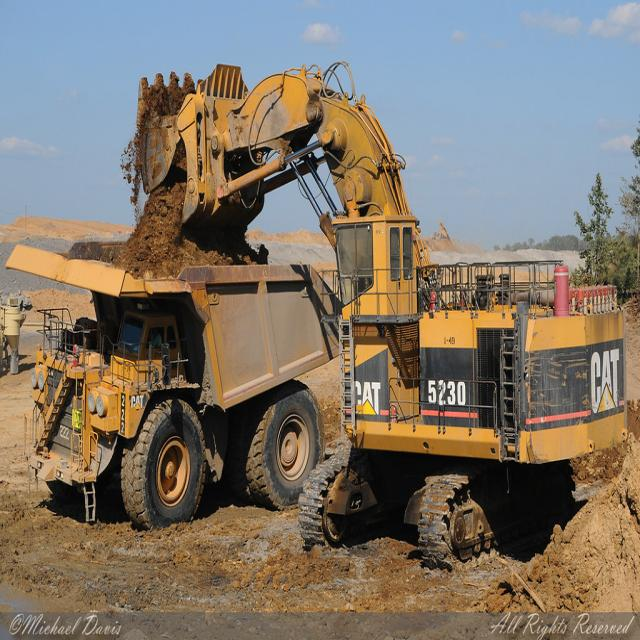dump_truck: (8, 216, 351, 539)
excavator: (138, 52, 640, 575)
